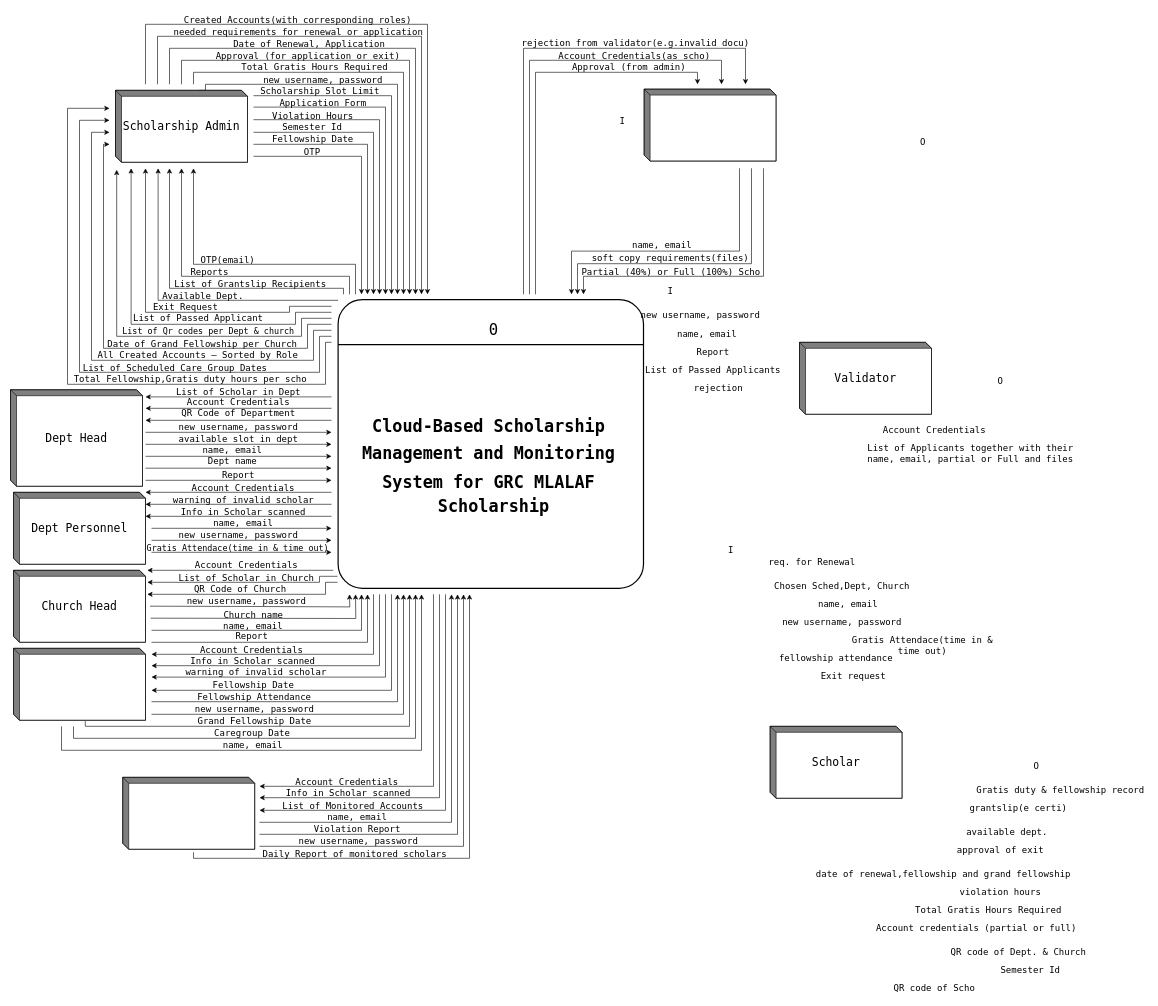
The diagram is 1158 pixels wide and 1006 high, and some of its shapes have lost their labels. The box of each missing label's shape, as (x1, y1, x2, y2) in pixels:
Applicant: (644, 88, 776, 161)
Church Personnel: (13, 648, 146, 720)
monitoring: (122, 777, 255, 849)
